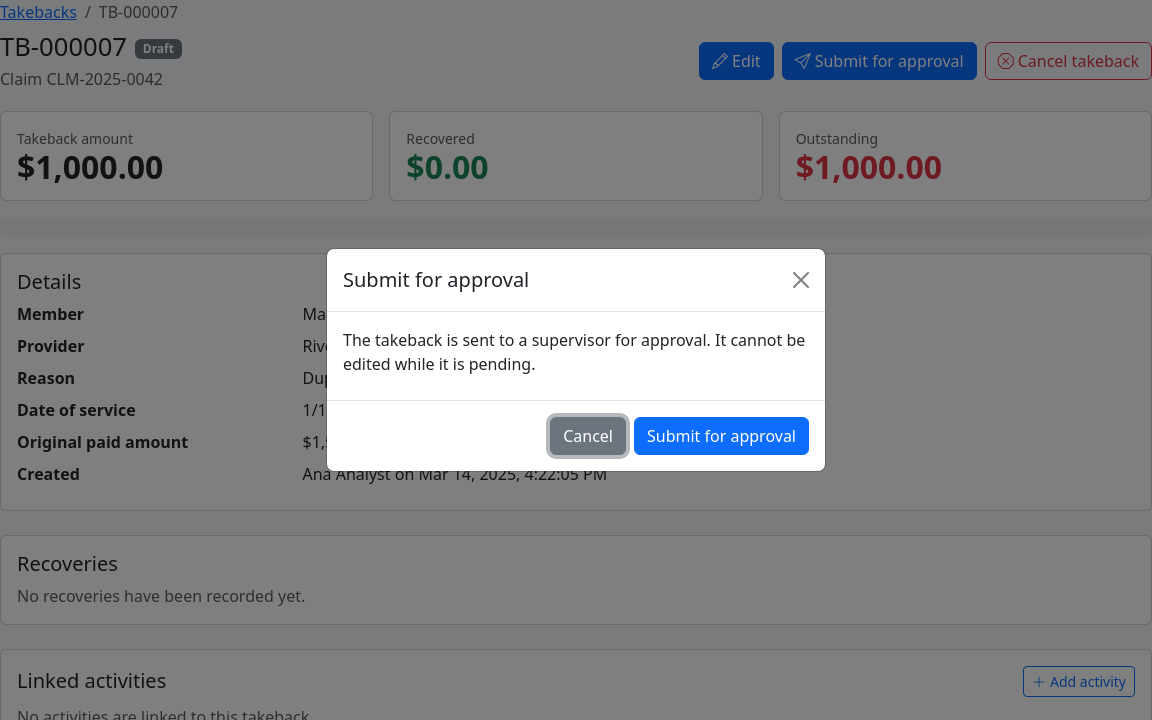
Scenario: TakebackDetailComponent › Submit › keeps the dialog open and shows the message of a rejected request
The width and height of the screenshot is (1152, 720).
Click the button "Submit for approval" at (722, 436), box x1=634 y1=417 x2=809 y2=455
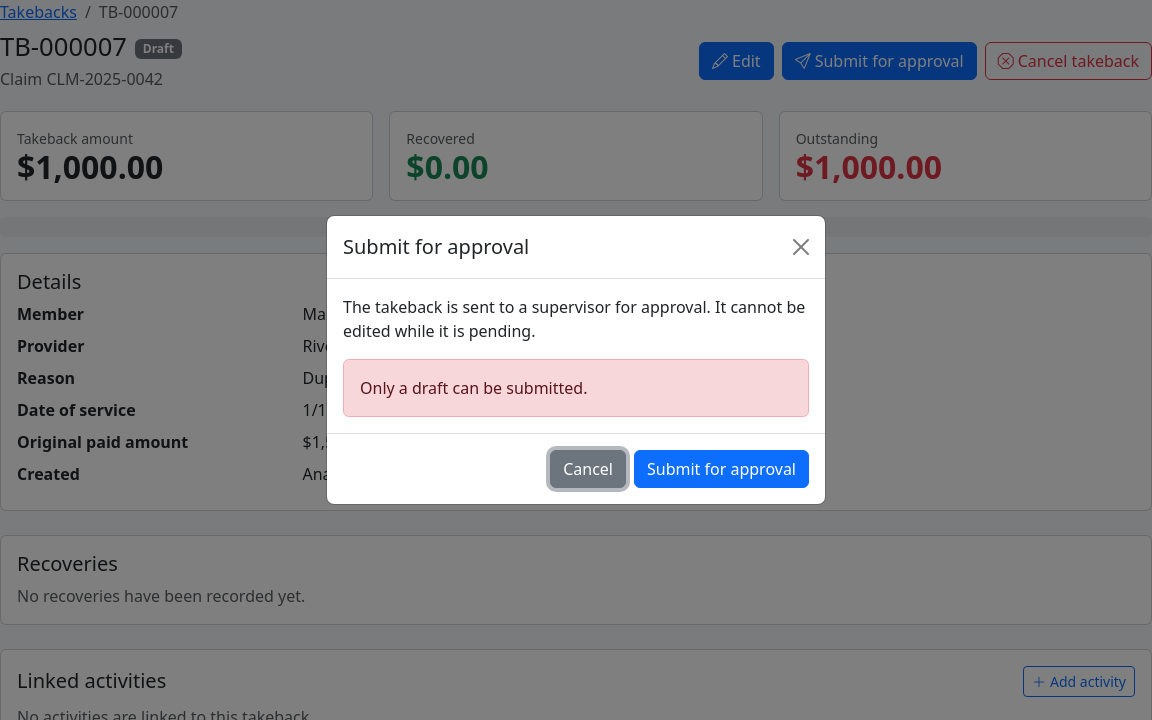
Expected: the message "Only a draft can be submitted." is shown, x1=343 y1=359 x2=809 y2=417
